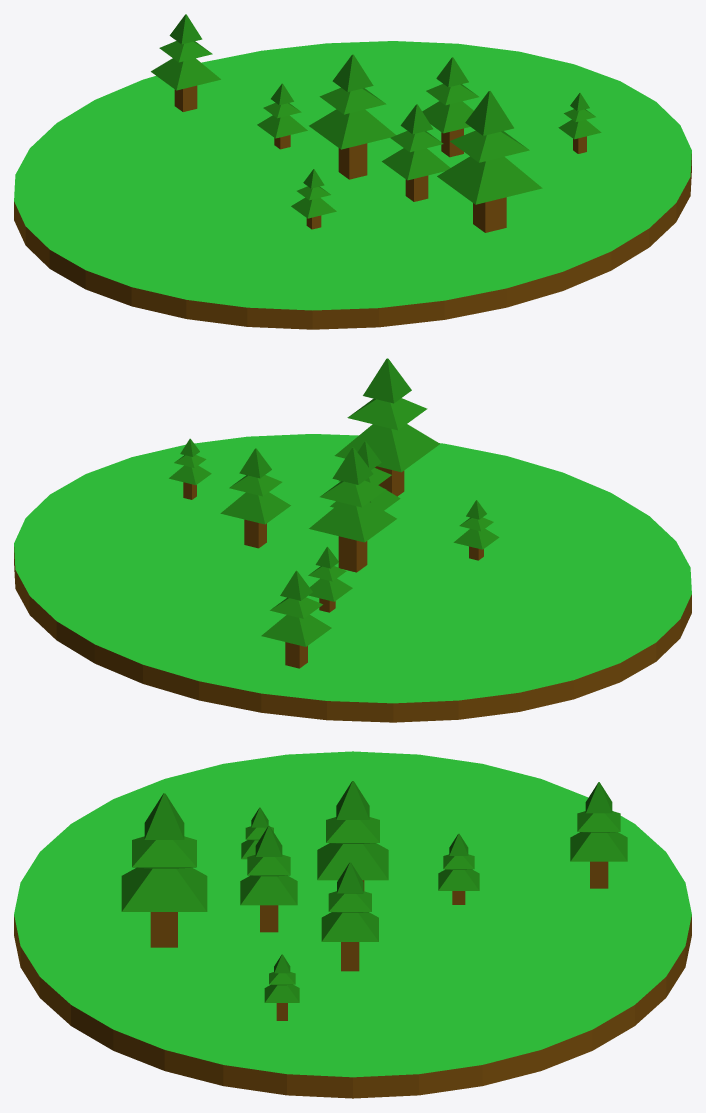
File: foret.glb
3 renders of one model, top to bottom at view 1: azimuth 30°, elevation 25°; view 2: azimuth 150°, elevation 25°; view 3: azimuth 270°, elevation 25°, orthographic. The views are drawn at different scales.
Visible parts, largest first — view 1: Cylindre, Cube.007, Cube, Cube.006, Cube.004, Cube.001, Cube.005, Cube.003, Cube.002; view 2: Cylindre, Cube.007, Cube, Cube.001, Cube.006, Cube.005, Cube.003, Cube.002, Cube.004; view 3: Cylindre, Cube.007, Cube, Cube.001, Cube.004, Cube.006, Cube.005, Cube.002, Cube.003.
Part boxes in pixels (bbox=[...]): Cylindre: bbox=[14, 41, 691, 329]; Cube.007: bbox=[437, 91, 542, 232]; Cube: bbox=[309, 54, 395, 179]; Cube.006: bbox=[151, 14, 220, 111]; Cube.004: bbox=[382, 104, 450, 201]; Cube.001: bbox=[422, 57, 478, 157]; Cube.005: bbox=[257, 83, 307, 149]; Cube.003: bbox=[291, 169, 336, 229]; Cube.002: bbox=[558, 93, 601, 153]; Cylindre: bbox=[14, 434, 691, 722]; Cube.007: bbox=[334, 358, 439, 496]; Cube: bbox=[309, 447, 396, 572]; Cube.001: bbox=[220, 448, 290, 548]; Cube.006: bbox=[261, 570, 331, 668]; Cube.005: bbox=[308, 546, 352, 612]; Cube.003: bbox=[453, 500, 499, 560]; Cube.002: bbox=[169, 438, 211, 499]; Cube.004: bbox=[330, 441, 400, 510]; Cylindre: bbox=[14, 751, 691, 1098]; Cube.007: bbox=[121, 793, 207, 947]; Cube: bbox=[317, 781, 388, 890]; Cube.001: bbox=[321, 862, 378, 971]; Cube.004: bbox=[240, 825, 297, 932]; Cube.006: bbox=[570, 782, 627, 888]; Cube.005: bbox=[438, 833, 479, 904]; Cube.002: bbox=[264, 954, 299, 1020]; Cube.003: bbox=[241, 807, 273, 859].
Bounding box in the file's own units: 84.2 × 20.42 × 74.03.
